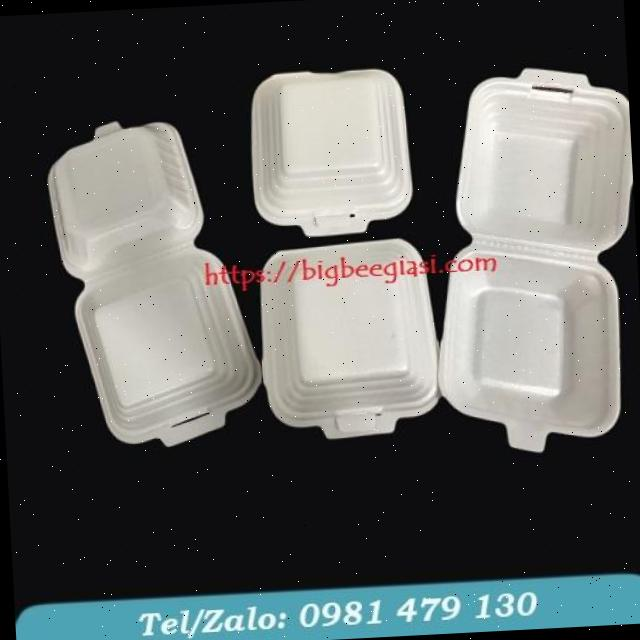styrofoam: (421, 60, 640, 458), (43, 112, 265, 452), (255, 234, 442, 443), (245, 63, 415, 240)
